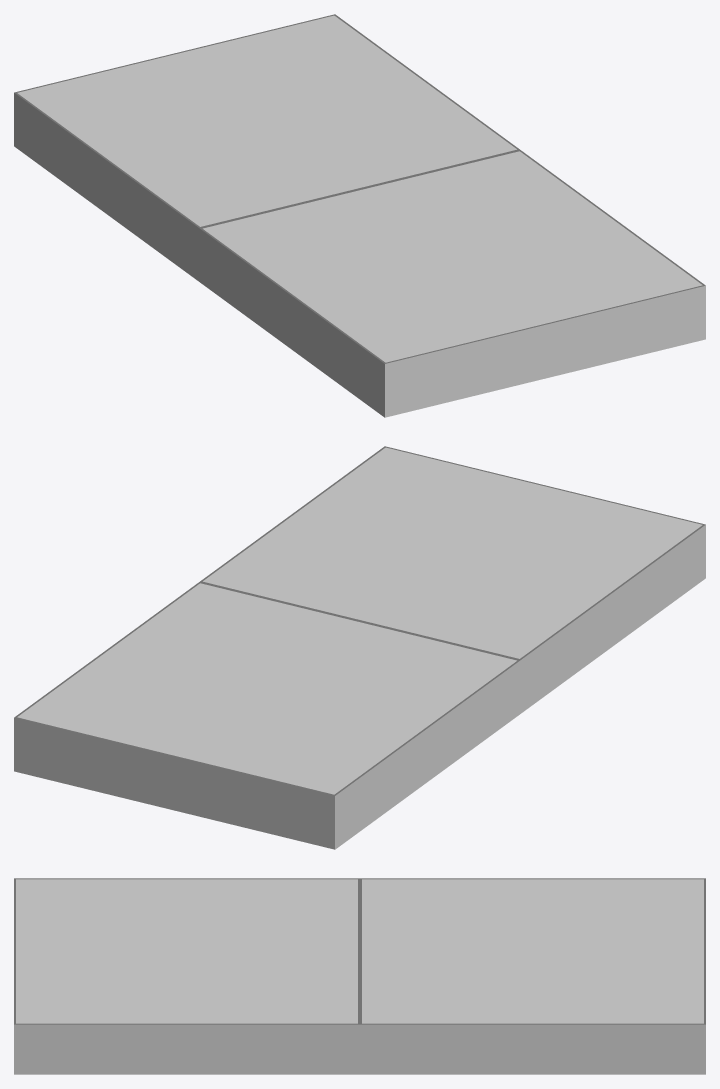
The model's file is Floor19_02.fbx.
The picture shows the model from 3 angles, top to bottom: view 1: azimuth 30°, elevation 25°; view 2: azimuth 150°, elevation 25°; view 3: azimuth 270°, elevation 25°; orthographic projection. The views are drawn at different scales.
Visible parts, largest first — view 1: Floor19_02; view 2: Floor19_02; view 3: Floor19_02.
Part boxes in pixels (x1,y1,x2,y2): Floor19_02: (14, 14, 705, 417); Floor19_02: (14, 446, 705, 849); Floor19_02: (14, 878, 705, 1074).
Size of the model in its own units: 125 by 20 by 250.
